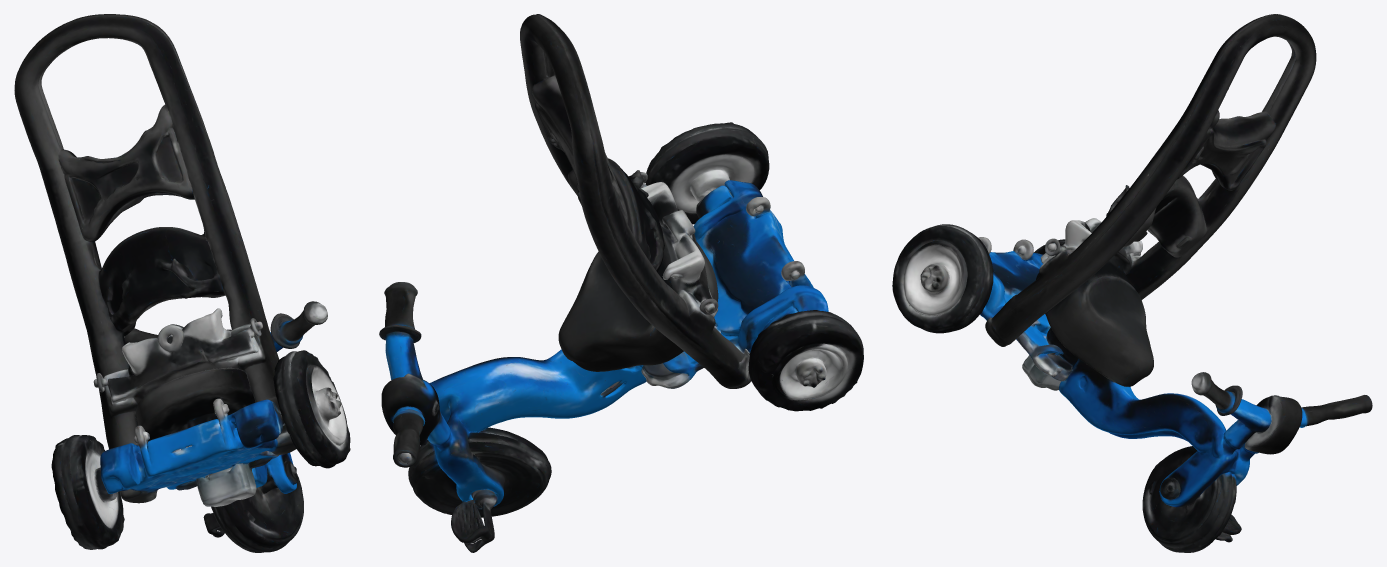
File: pixal3d.glb
3 views of the same model, side by side, from view 1: azimuth 30°, elevation 25°; view 2: azimuth 150°, elevation 25°; view 3: azimuth 270°, elevation 25° (orthographic). The views are drawn at different scales.
Visible parts, largest first — view 1: world; view 2: world; view 3: world.
Boxes of the visible parts, <box> form: world: <box>14,14,350,552</box>; world: <box>379,14,863,552</box>; world: <box>892,14,1372,552</box>.
Bounding box in the file's own units: 0.5915 × 0.8367 × 0.7538.
1 material, 1 textured.
